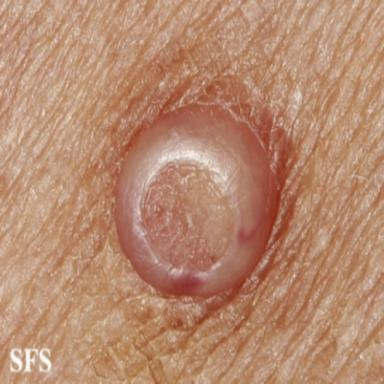Molluscum-Contagiosum: (115, 105, 278, 295)
